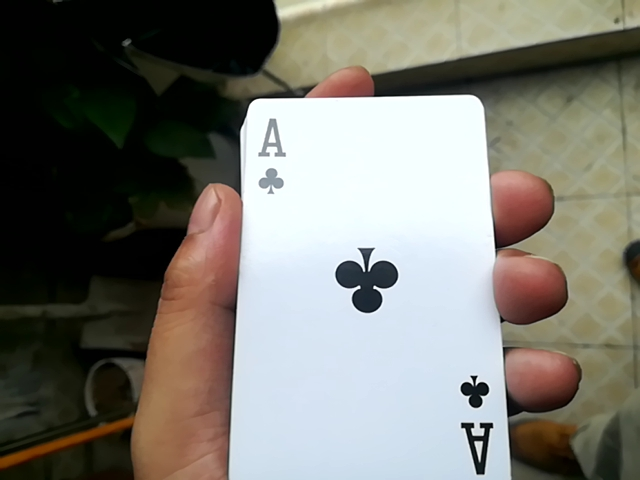mh a: (227, 91, 497, 480)
